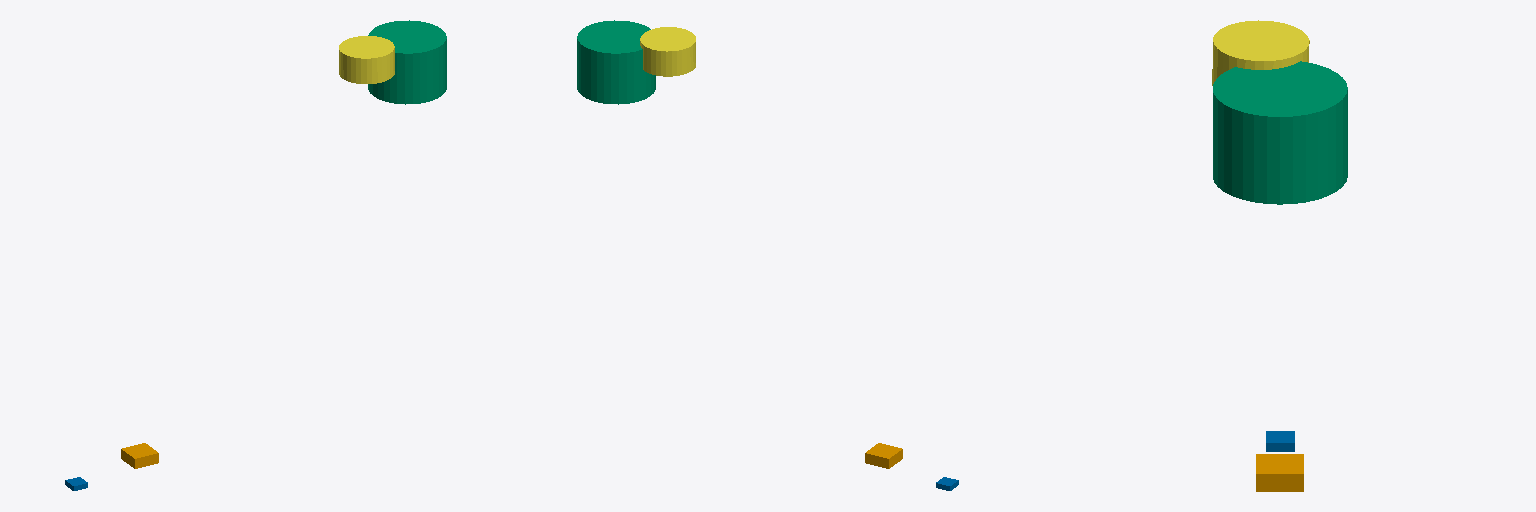
URDF robot description (BLUE):
<?xml version="1.0"?>

<robot name="BLUE">

<link name="base_link">

  <visual name='visual'>
    <geometry>
      <box size="0.05 0.05 0.02"/>
    </geometry>
  </visual>

  <collision name='collision'>
    <geometry>
      <box size="0.05 0.05 0.02"/>
    </geometry>
  </collision>

</link>

<link name="gps"/>

<link name='velodyne'>

  <visual name='visual'>
    <geometry>
      <cylinder length="0.1" radius="0.07"/>
    </geometry>
  </visual>

  <collision name='collision'>
    <geometry>
      <cylinder length="0.1" radius="0.07"/>
    </geometry>
  </collision>
  
</link>

<link name='camera_link_static'>

  <visual name='visual'>
    <geometry>
      <cylinder length="0.05" radius="0.05"/>
    </geometry>
  </visual>

  <collision name='collision'>
    <geometry>
      <cylinder length="0.05" radius="0.05"/>
    </geometry>
  </collision>
  
</link>

<link name="imu_link">

  <visual name='visual'>
    <geometry>
      <box size="0.03 0.03 0.01"/>
    </geometry>
  </visual>

  <collision name='collision'>
    <geometry>
      <box size="0.03 0.03 0.01"/>
    </geometry>
  </collision>

</link>


<joint name="base_to_velo" type="fixed">
  <parent link="base_link"/>
  <child link="velodyne"/>
  <origin rpy="0.0 0.0 0.0" xyz="0.55 0.0 0.645"/>
</joint>

<joint name="base_to_camera" type="fixed">
  <parent link="base_link"/>
  <child link="camera_link_static"/>
  <origin rpy="-0.02 0.0 0.06" xyz="0.455 -0.02 0.68"/>
</joint>

<joint name="base_to_imu" type="fixed">
  <parent link="base_link"/>
  <child link="imu_link"/>
  <origin rpy="0.0 0.0 0.0" xyz="-0.13 0.0 -0.025"/>
</joint>

<joint name="base_to_gps" type="fixed">
  <parent link="base_link"/>
  <child link="gps"/>
  <origin rpy="0.0 0.0 0.0" xyz="0.0 0.0 0.0"/>
</joint>


</robot>


--- What the picture shows (computed from the rendered views, not written in the file) ---
Views: 3 orthographic renders of the robot side by side, from view 1: azimuth 30°, elevation 25°; view 2: azimuth 150°, elevation 25°; view 3: azimuth 270°, elevation 25°.
Model BLUE with 5 links and 4 joints (4 fixed), rooted at base_link, posed every joint at zero.
Links seen in each view (by area): view 1: velodyne, camera_link_static, base_link; view 2: velodyne, camera_link_static, base_link; view 3: velodyne, camera_link_static, base_link, imu_link.
Boxes of the visible links, left/top/right/bottom form: velodyne: left=368, top=20, right=446, bottom=104; camera_link_static: left=339, top=36, right=394, bottom=83; base_link: left=121, top=443, right=158, bottom=468; velodyne: left=577, top=20, right=655, bottom=104; camera_link_static: left=640, top=27, right=695, bottom=76; base_link: left=865, top=443, right=902, bottom=468; velodyne: left=1213, top=61, right=1347, bottom=204; camera_link_static: left=1212, top=20, right=1309, bottom=85; base_link: left=1256, top=454, right=1303, bottom=491; imu_link: left=1266, top=431, right=1294, bottom=451.
Bounding box of the posed robot: 0.765 × 0.1404 × 0.736 m (x, y, z).
Geometry: primitives only (box / cylinder / sphere), no mesh files.